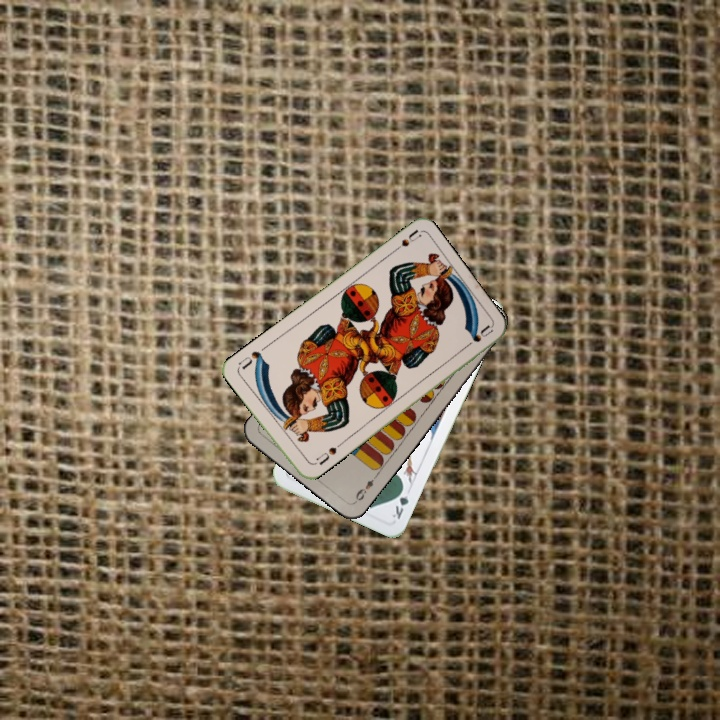E9: (351, 471, 380, 504)
GK: (387, 482, 411, 522)
SU: (386, 226, 422, 257), (312, 440, 344, 468)
